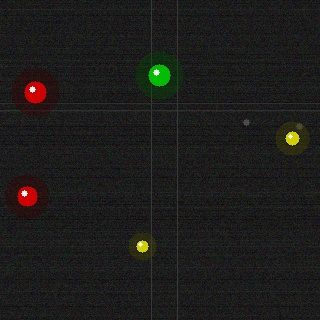green_normal: (146, 62, 172, 88)
red_fault: (22, 79, 48, 105), (15, 184, 39, 208)
yellow_warning: (283, 129, 301, 147), (134, 238, 150, 254)
